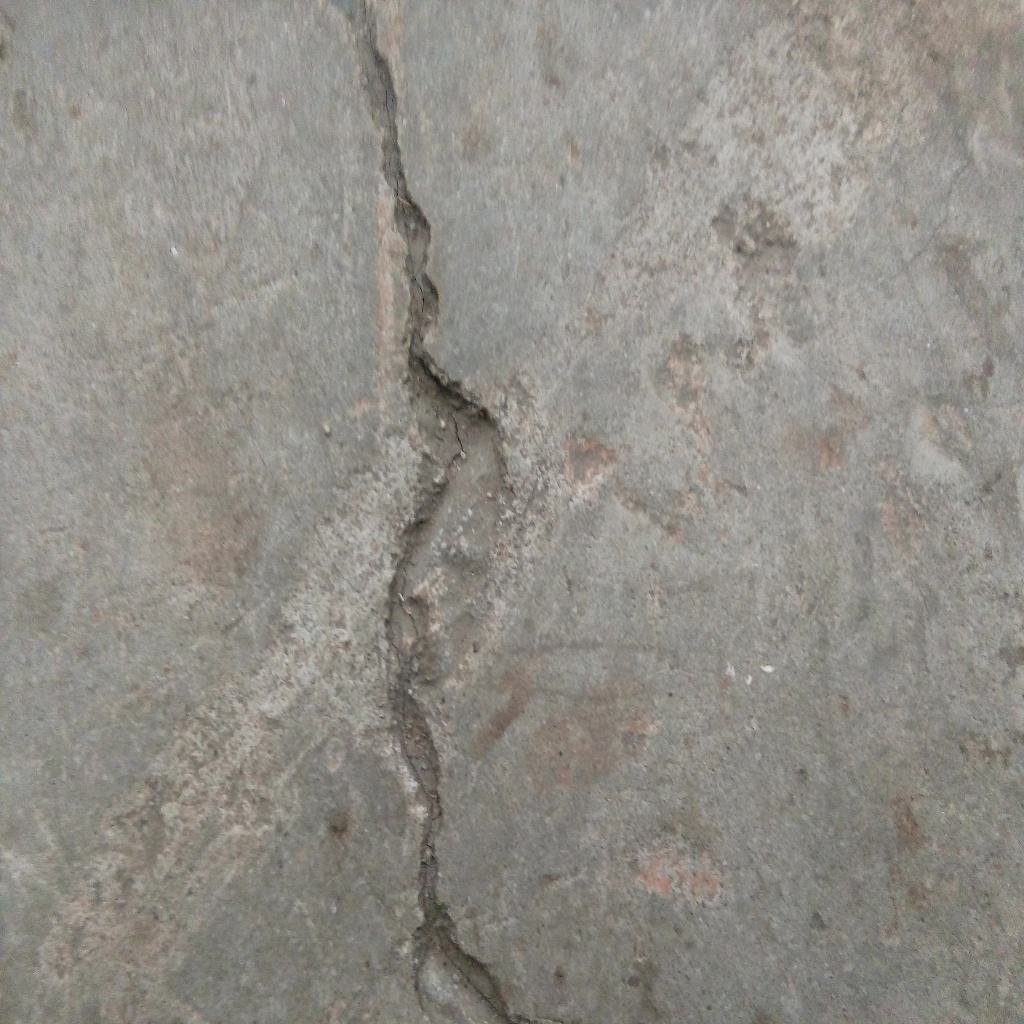Crack: (331, 1, 516, 1024)
